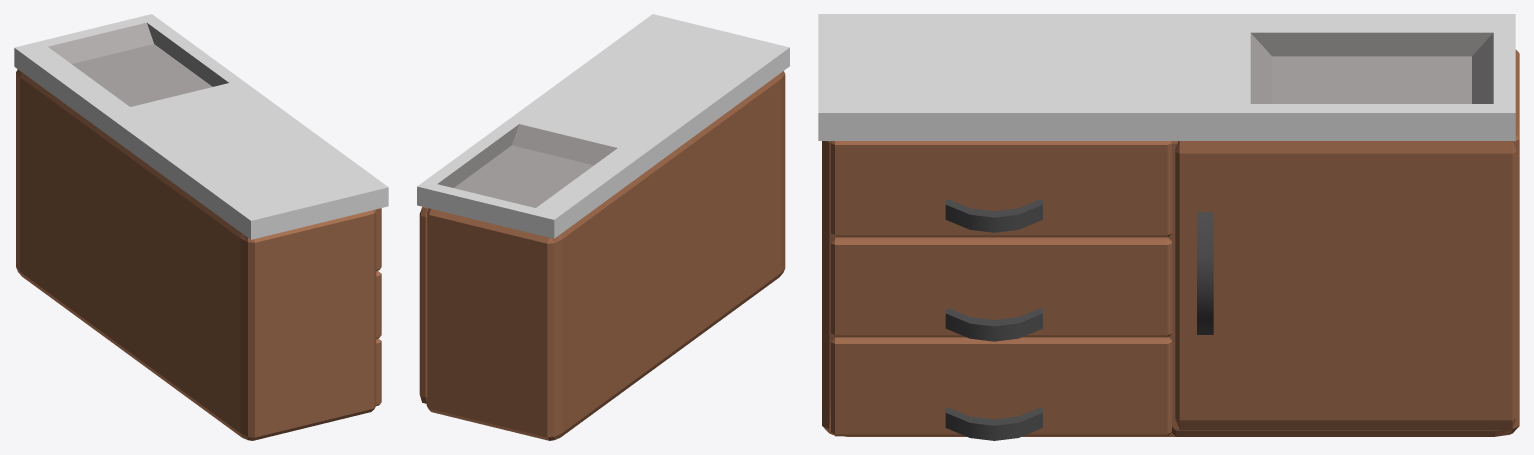
The model's file is sink.fbx.
3 renders of one model, left to right at view 1: azimuth 30°, elevation 25°; view 2: azimuth 150°, elevation 25°; view 3: azimuth 270°, elevation 25°, orthographic. The views are drawn at different scales.
Visible parts, largest first — view 1: pCube6, pCube7, pCube16, pCube17, pCube15; view 2: pCube6, pCube7, pCube18; view 3: pCube18, pCube7, pCube16, pCube17, pCube15, pCube6, pCube13, pCube14, pCube12, pCube8.
Part boxes in pixels (left/top/right/bottom): pCube6: left=16, top=69, right=376, bottom=440; pCube7: left=14, top=14, right=388, bottom=239; pCube16: left=376, top=271, right=381, bottom=338; pCube17: left=376, top=338, right=381, bottom=405; pCube15: left=376, top=208, right=381, bottom=270; pCube6: left=426, top=71, right=785, bottom=440; pCube7: left=417, top=14, right=789, bottom=238; pCube18: left=419, top=207, right=428, bottom=403; pCube18: left=1175, top=141, right=1516, bottom=429; pCube7: left=818, top=14, right=1515, bottom=140; pCube16: left=831, top=237, right=1171, bottom=337; pCube17: left=831, top=336, right=1171, bottom=436; pCube15: left=831, top=141, right=1171, bottom=237; pCube6: left=822, top=49, right=1519, bottom=436; pCube13: left=945, top=308, right=1042, bottom=341; pCube14: left=945, top=408, right=1042, bottom=440; pCube12: left=945, top=200, right=1042, bottom=232; pCube8: left=1197, top=212, right=1213, bottom=334.
Size of the model in its own units: 1.59 by 2.12 by 4.04.
